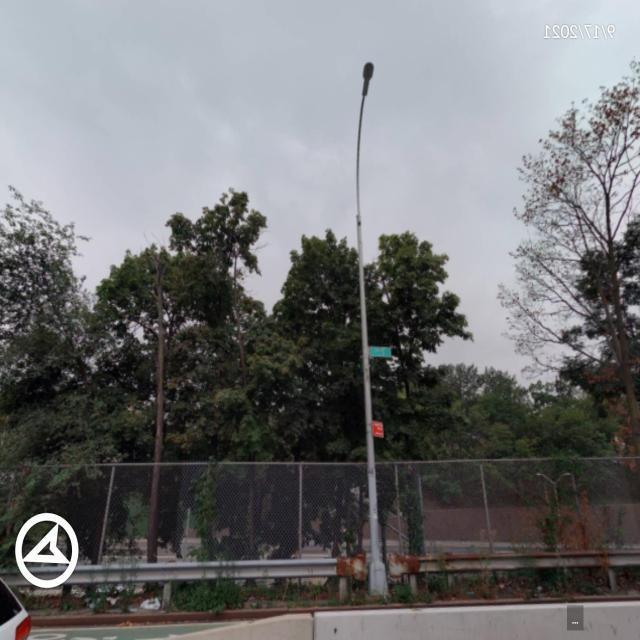off: (355, 35, 394, 234)
